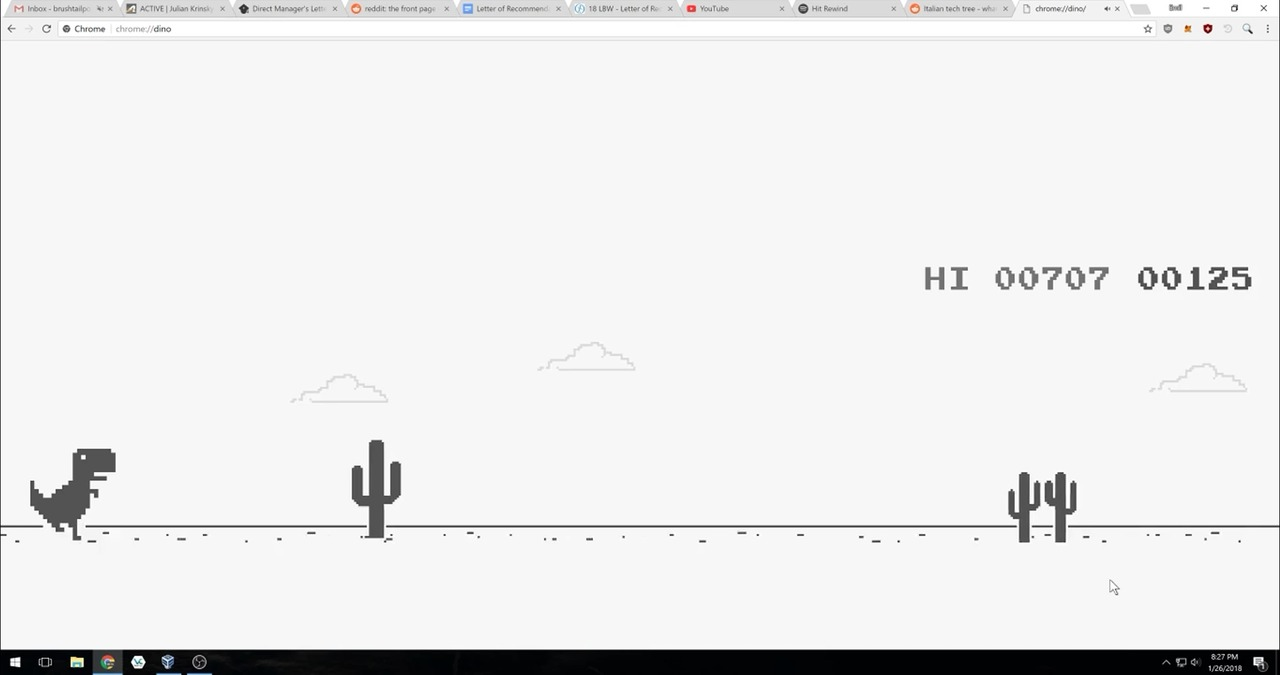cactus: (1005, 468, 1082, 549), (351, 439, 405, 543)
dinosaur: (32, 447, 118, 542)
